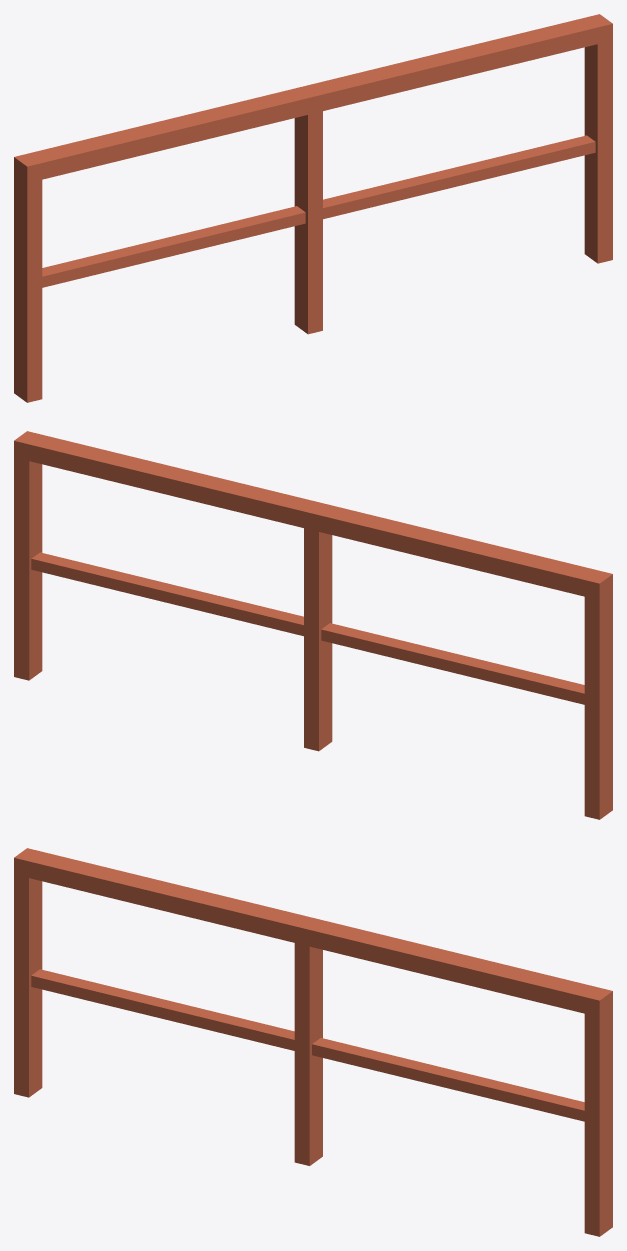
The model's file is Partitions_032.glb.
3 views of the same model, one above another, from view 1: azimuth 30°, elevation 25°; view 2: azimuth 150°, elevation 25°; view 3: azimuth 330°, elevation 25° (orthographic).
Parts seen in each view (by area): view 1: Partitions_032; view 2: Partitions_032; view 3: Partitions_032.
Boxes of the visible parts, x1=… form: Partitions_032: x1=14, y1=14, x2=612, y2=402; Partitions_032: x1=14, y1=431, x2=612, y2=819; Partitions_032: x1=14, y1=848, x2=612, y2=1236.
Bounding box in the file's own units: 2.03 × 0.7809 × 0.0793.
Materials: 1 (1 with a texture image).
